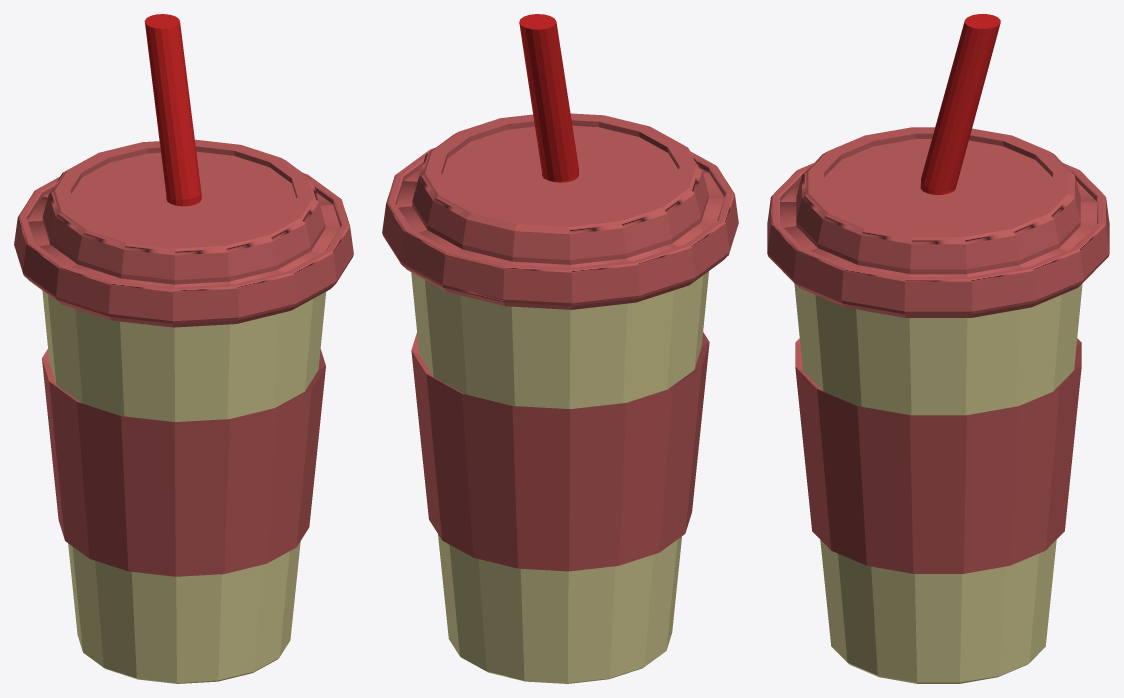
File: DrinkCup.fbx
3 views of the same model, side by side, from view 1: azimuth 30°, elevation 25°; view 2: azimuth 150°, elevation 25°; view 3: azimuth 270°, elevation 25° (orthographic). The views are drawn at different scales.
Parts seen in each view (by area): view 1: Drink_Cup; view 2: Drink_Cup; view 3: Drink_Cup.
Boxes of the visible parts, left/top/right/bottom form: Drink_Cup: left=14, top=14, right=353, bottom=683; Drink_Cup: left=382, top=14, right=738, bottom=683; Drink_Cup: left=767, top=14, right=1109, bottom=683.
Size of the model in its own units: 16.02 by 31.88 by 16.02.
